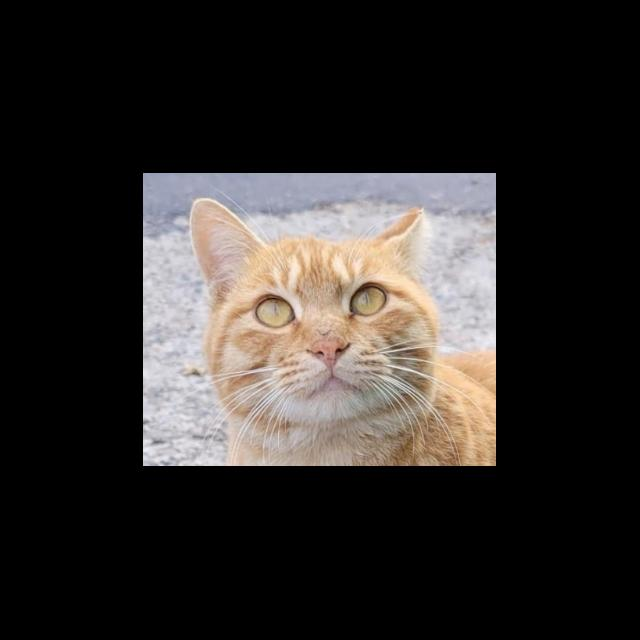animals: (181, 190, 446, 441)
